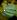with_mask: (2, 1, 17, 20)
